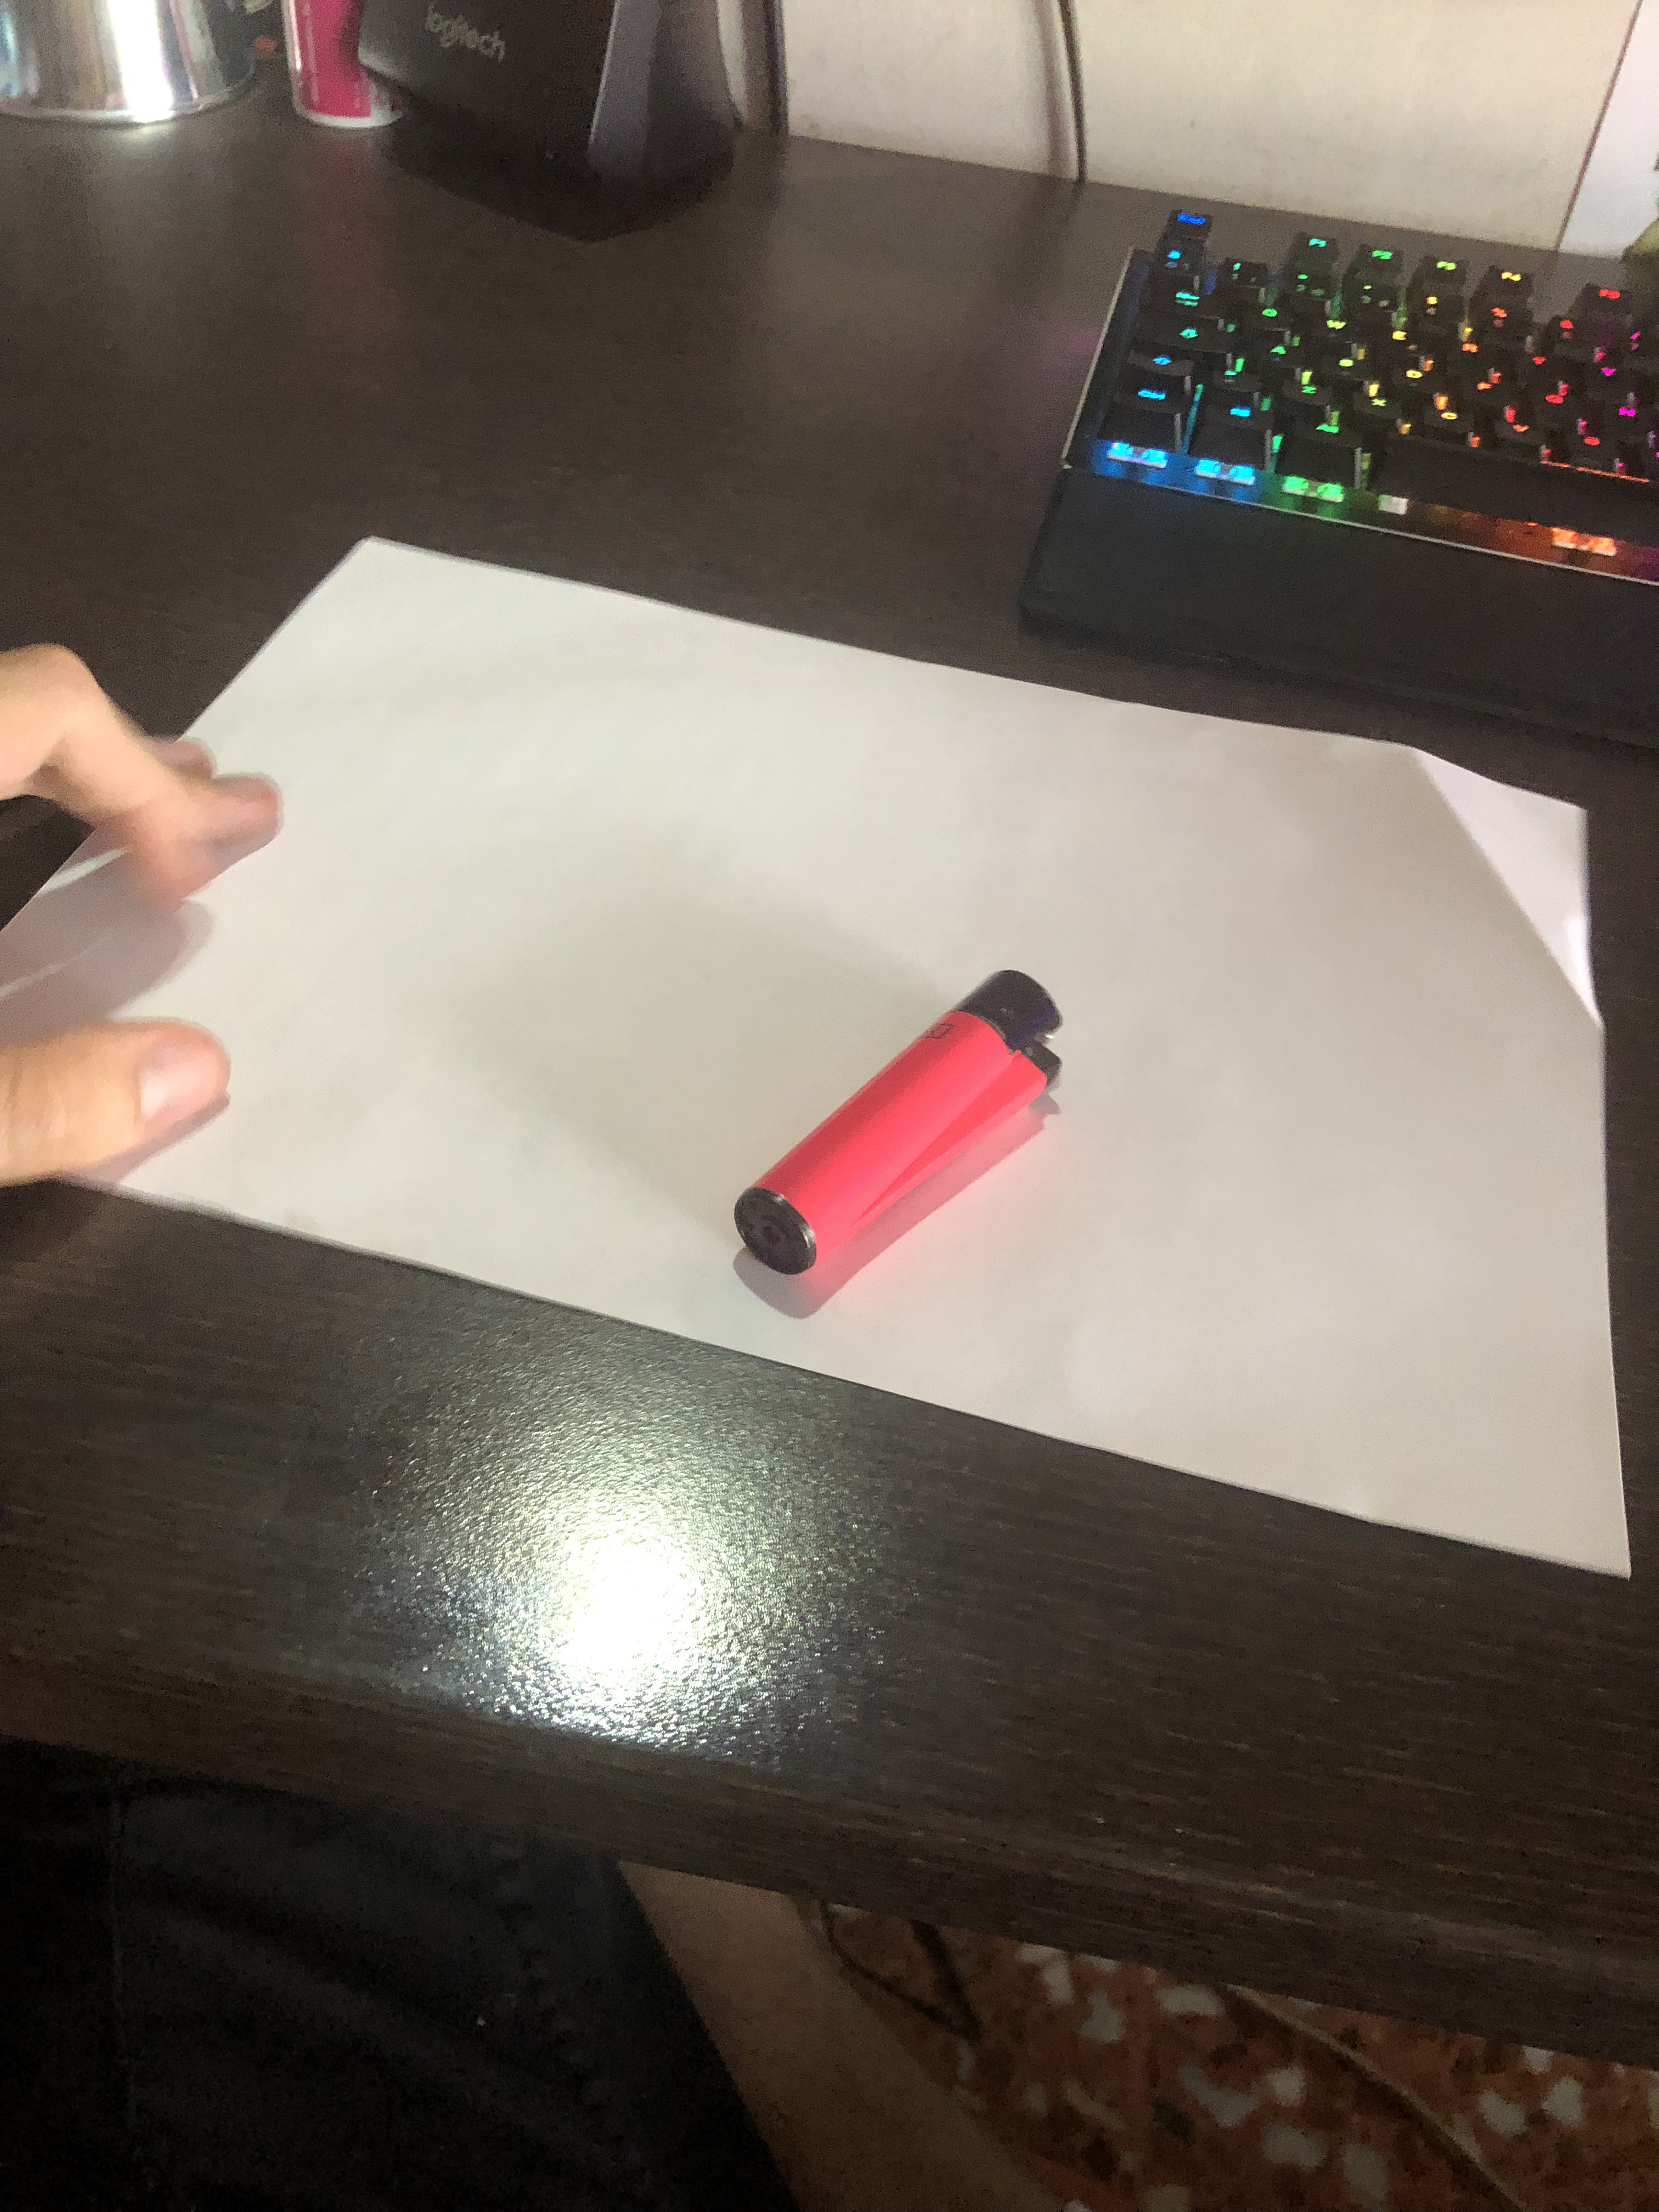Mechero: (685, 961, 1075, 1312)
